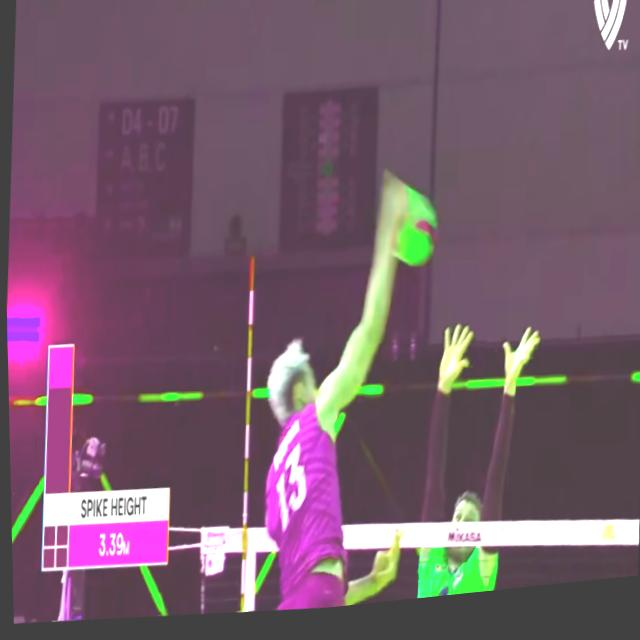player: (251, 170, 421, 620), (404, 325, 545, 608)
